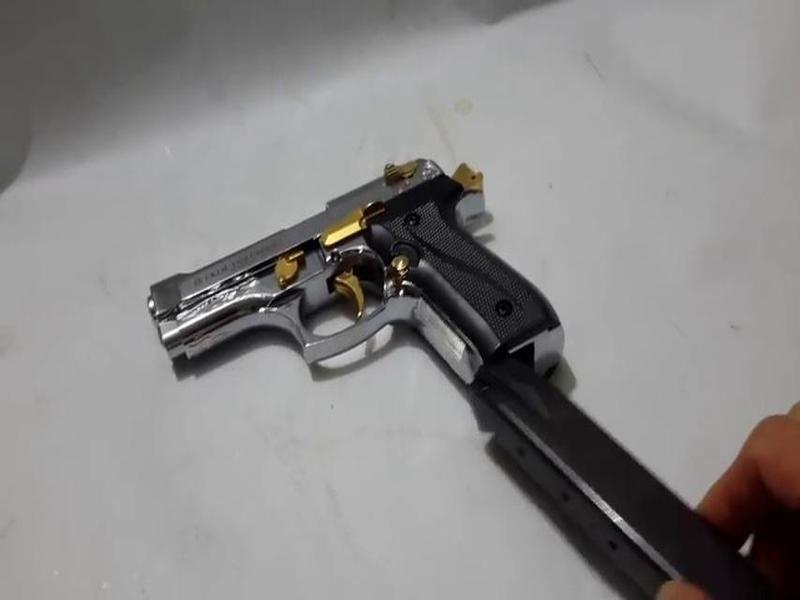Pistola: (117, 143, 578, 390)
